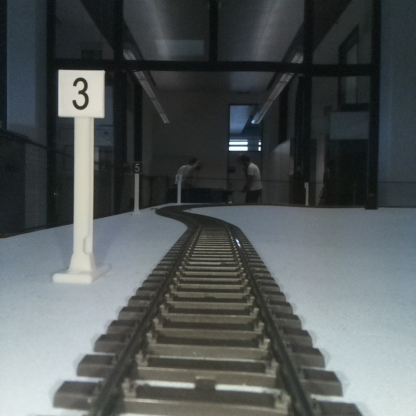white-info-3: (58, 69, 104, 282)
